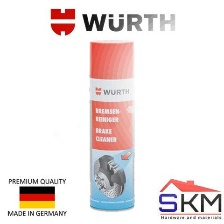aerosol_cans: (84, 37, 138, 213)
